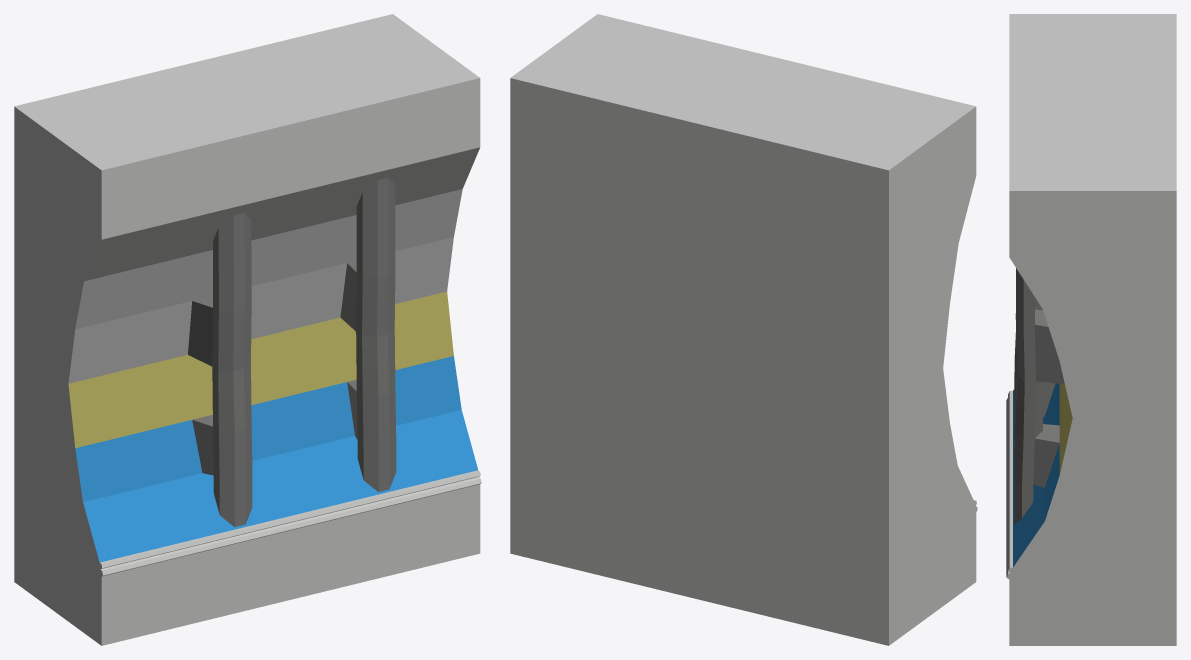
File: SM_HalfWall_Var3.fbx
3 renders of one model, left to right at view 1: azimuth 30°, elevation 25°; view 2: azimuth 150°, elevation 25°; view 3: azimuth 270°, elevation 25°, orthographic. The views are drawn at different scales.
Parts seen in each view (by area): view 1: SM_Wall_HalfEdge_Var2.001; view 2: SM_Wall_HalfEdge_Var2.001; view 3: SM_Wall_HalfEdge_Var2.001.
Part boxes in pixels (x1,y1,x2,y2): SM_Wall_HalfEdge_Var2.001: [14, 14, 481, 645]; SM_Wall_HalfEdge_Var2.001: [510, 14, 977, 645]; SM_Wall_HalfEdge_Var2.001: [1006, 14, 1176, 645].
Bounding box in the file's own units: 500 × 600 × 203.
